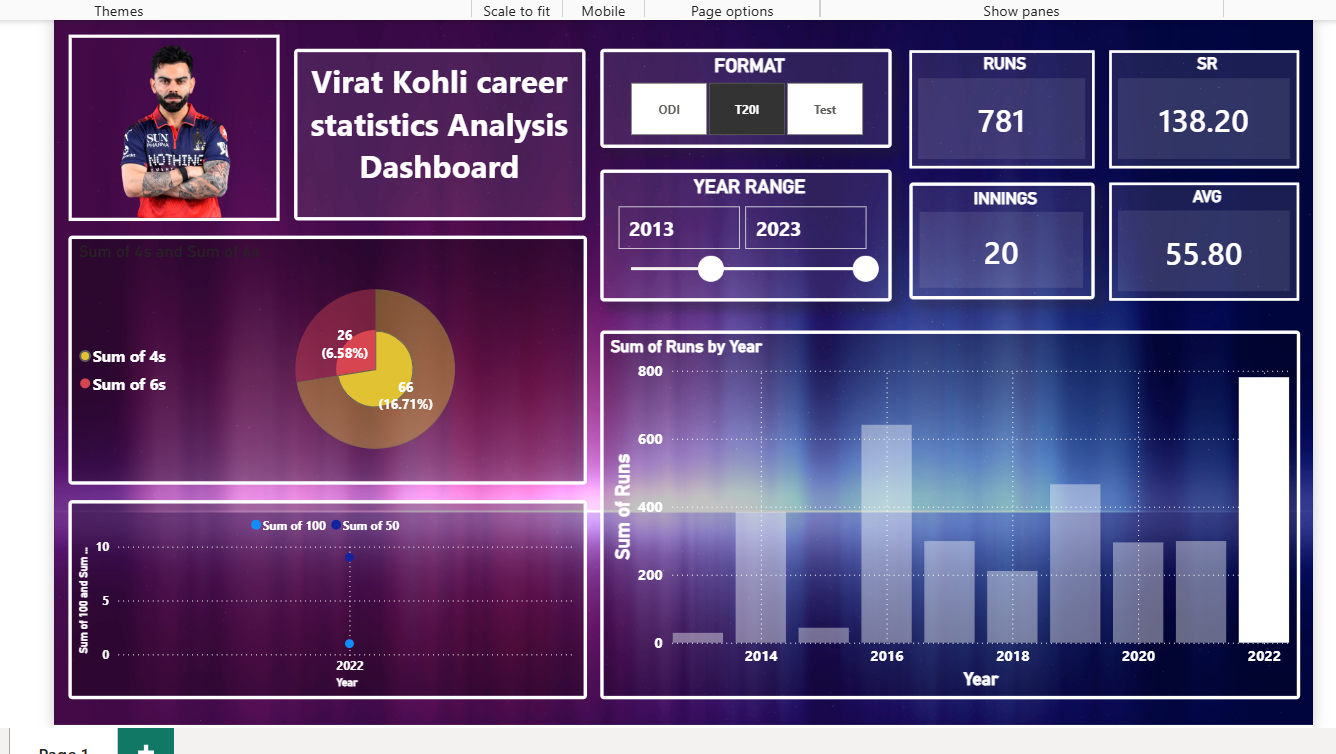

The dashboard page shown, as its layout file describes it:
{"tool":"powerbi","page":{"name":"Page 1","canvas":[1280,720],"ordinal":0},"visuals":[{"type":"image","box":[14,14,214.6,190.2],"z":0},{"type":"textbox","box":[244.3,29.7,296.6,174.5],"z":1},{"type":"cardVisual","title":"INNINGS","fields":{"Data":["Sum(Sheet1.Innings)"]},"box":[869,165.8,188.5,118.7],"z":2},{"type":"cardVisual","title":"RUNS","fields":{"Data":["Sum(Sheet1.Runs)"]},"box":[869,31.4,188.5,120.4],"z":3},{"type":"cardVisual","title":"AVG","fields":{"Data":["Avg(Sheet1.Avg)"]},"box":[1073.1,165.8,193.7,120.4],"z":5},{"type":"cardVisual","title":"SR","fields":{"Data":["Avg(Sheet1.SR)"]},"box":[1073.1,31.4,193.7,120.4],"z":6},{"type":"slicer","title":"FORMAT","fields":{"Values":["Sheet1.Format"]},"box":[554.9,29.7,296.6,101.2],"z":7},{"type":"slicer","title":"YEAR RANGE","fields":{"Values":["Sheet1.Year"]},"box":[554.9,151.8,296.6,134.4],"z":8},{"type":"clusteredColumnChart","fields":{"Y":["Sum(Sheet1.Runs)"],"Category":["Sheet1.Year"]},"box":[554.9,315.8,711.9,375.2],"z":9},{"type":"pieChart","fields":{"Y":["Sum(Sheet1.4s)","Sum(Sheet1.6s)"]},"box":[14,219.9,527,253],"z":10},{"type":"stackedAreaChart","fields":{"Y":["Sum(Sheet1.100)","Sum(Sheet1.50)"],"Category":["Sheet1.Year"]},"box":[14,488.6,527,202.4],"z":11}]}

Visuals, with their boxes in screenshot pixels (x1, y1, x2, y2):
image: detection(63, 28, 276, 217)
textbox: detection(291, 43, 586, 217)
"INNINGS" cardVisual: detection(911, 179, 1099, 296)
"RUNS" cardVisual: detection(911, 45, 1099, 165)
"AVG" cardVisual: detection(1114, 179, 1306, 298)
"SR" cardVisual: detection(1114, 45, 1306, 165)
"FORMAT" slicer: detection(600, 43, 894, 144)
"YEAR RANGE" slicer: detection(600, 165, 894, 298)
clusteredColumnChart - Sum(Sheet1.Runs) x Sheet1.Year: detection(600, 327, 1306, 700)
pieChart - Sum(Sheet1.4s) x Sum(Sheet1.6s): detection(63, 232, 586, 483)
stackedAreaChart - Sum(Sheet1.100) x Sum(Sheet1.50): detection(63, 499, 586, 700)
